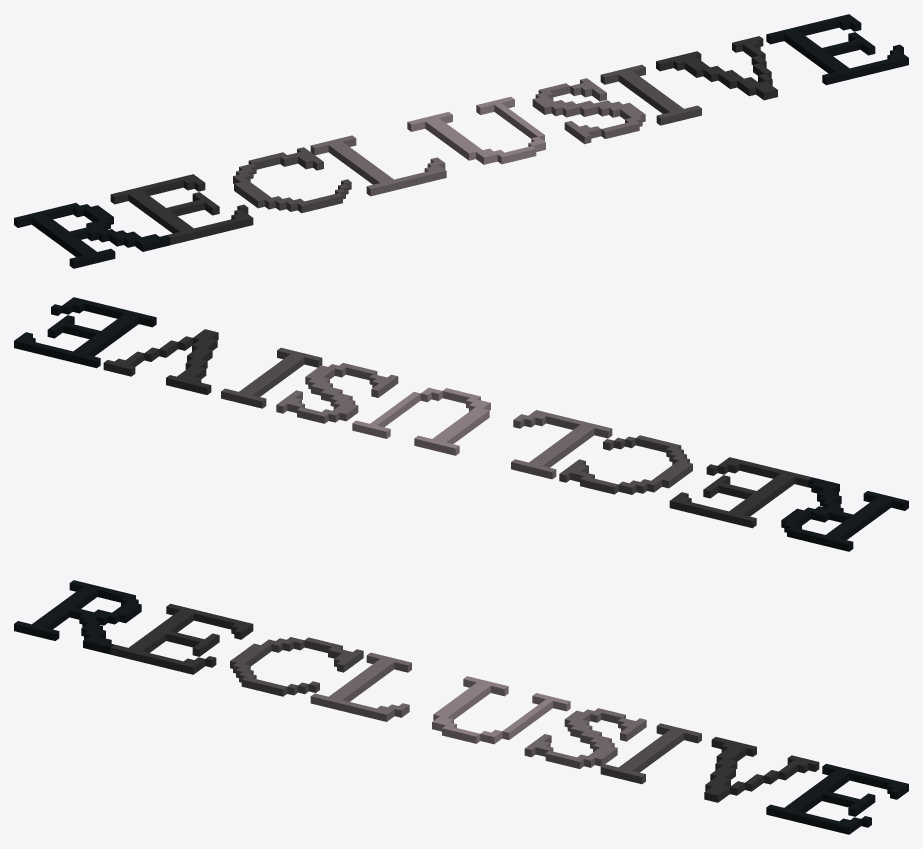
Rendered from reclusive-0-REC.obj.
The picture shows the model from 3 angles, top to bottom: view 1: azimuth 30°, elevation 25°; view 2: azimuth 150°, elevation 25°; view 3: azimuth 330°, elevation 25°; orthographic projection.
Visible parts, largest first — view 1: REC; view 2: REC; view 3: REC.
Part boxes in pixels (box(x1,y1,x2,y2)): REC: box(14, 14, 908, 268); REC: box(14, 297, 908, 551); REC: box(14, 580, 908, 834).
Size of the model in its own units: 12.2 by 0.1 by 1.5.
Materials: 1 (1 with a texture image).
